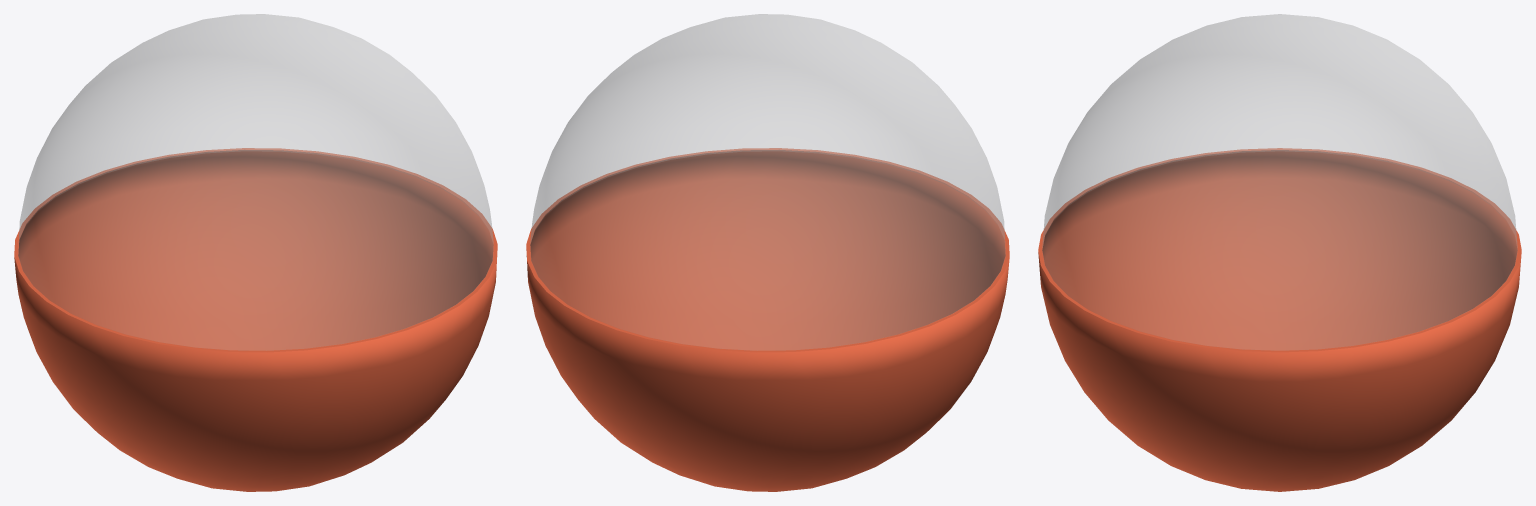
Rendered from ball.glb.
The picture shows the model from 3 angles, left to right: view 1: azimuth 30°, elevation 25°; view 2: azimuth 150°, elevation 25°; view 3: azimuth 270°, elevation 25°; orthographic projection.
Visible parts, largest first — view 1: ball; view 2: ball; view 3: ball.
Boxes of the visible parts, bbox=[...] form: ball: bbox=[14, 14, 497, 491]; ball: bbox=[526, 14, 1009, 491]; ball: bbox=[1038, 14, 1521, 491].
Bounding box in the file's own units: 2.03 × 2.01 × 2.03.
